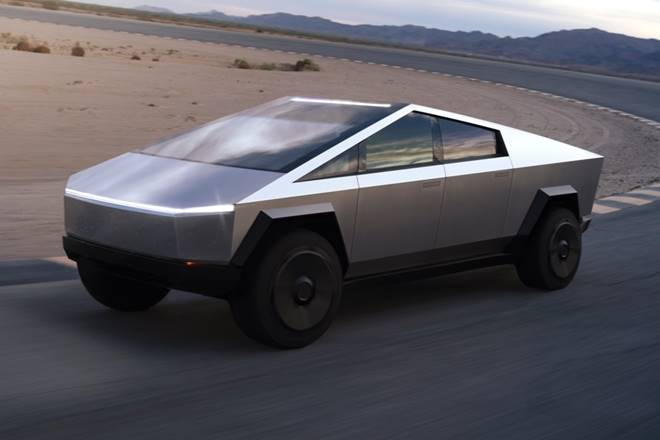truck: (75, 47, 600, 324)
